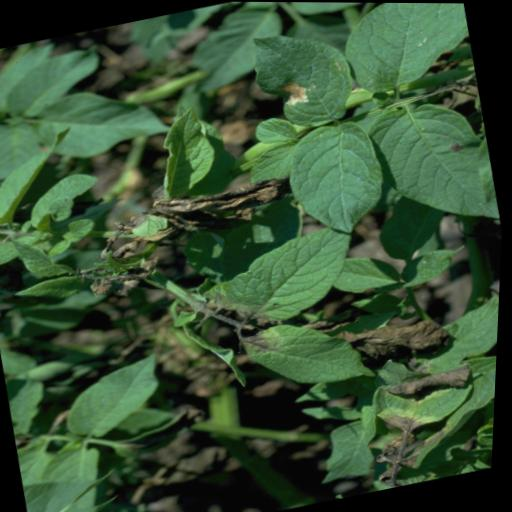Late Blight: (232, 303, 379, 402), (365, 359, 490, 443)
